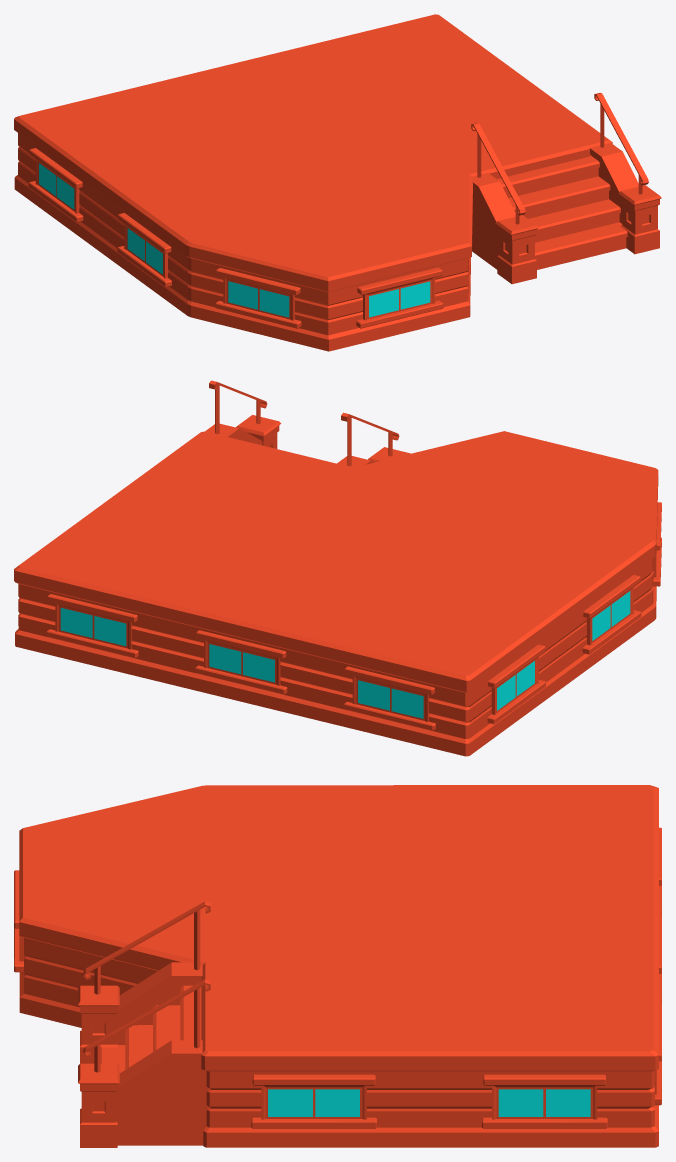
Rendered from SM_Bayhouse_Bottom_Small_A_AS_City.fbx.
The picture shows the model from 3 angles, top to bottom: view 1: azimuth 30°, elevation 25°; view 2: azimuth 150°, elevation 25°; view 3: azimuth 270°, elevation 25°; orthographic projection. The views are drawn at different scales.
Visible parts, largest first — view 1: SM_Bayhouse_Bottom_Small_A_AS_City; view 2: SM_Bayhouse_Bottom_Small_A_AS_City; view 3: SM_Bayhouse_Bottom_Small_A_AS_City.
Boxes of the visible parts, left/top/right/bottom form: SM_Bayhouse_Bottom_Small_A_AS_City: left=14, top=14, right=661, bottom=351; SM_Bayhouse_Bottom_Small_A_AS_City: left=14, top=380, right=661, bottom=756; SM_Bayhouse_Bottom_Small_A_AS_City: left=14, top=785, right=661, bottom=1147.
Bounding box in the file's own units: 6.19 × 1.67 × 6.16.
